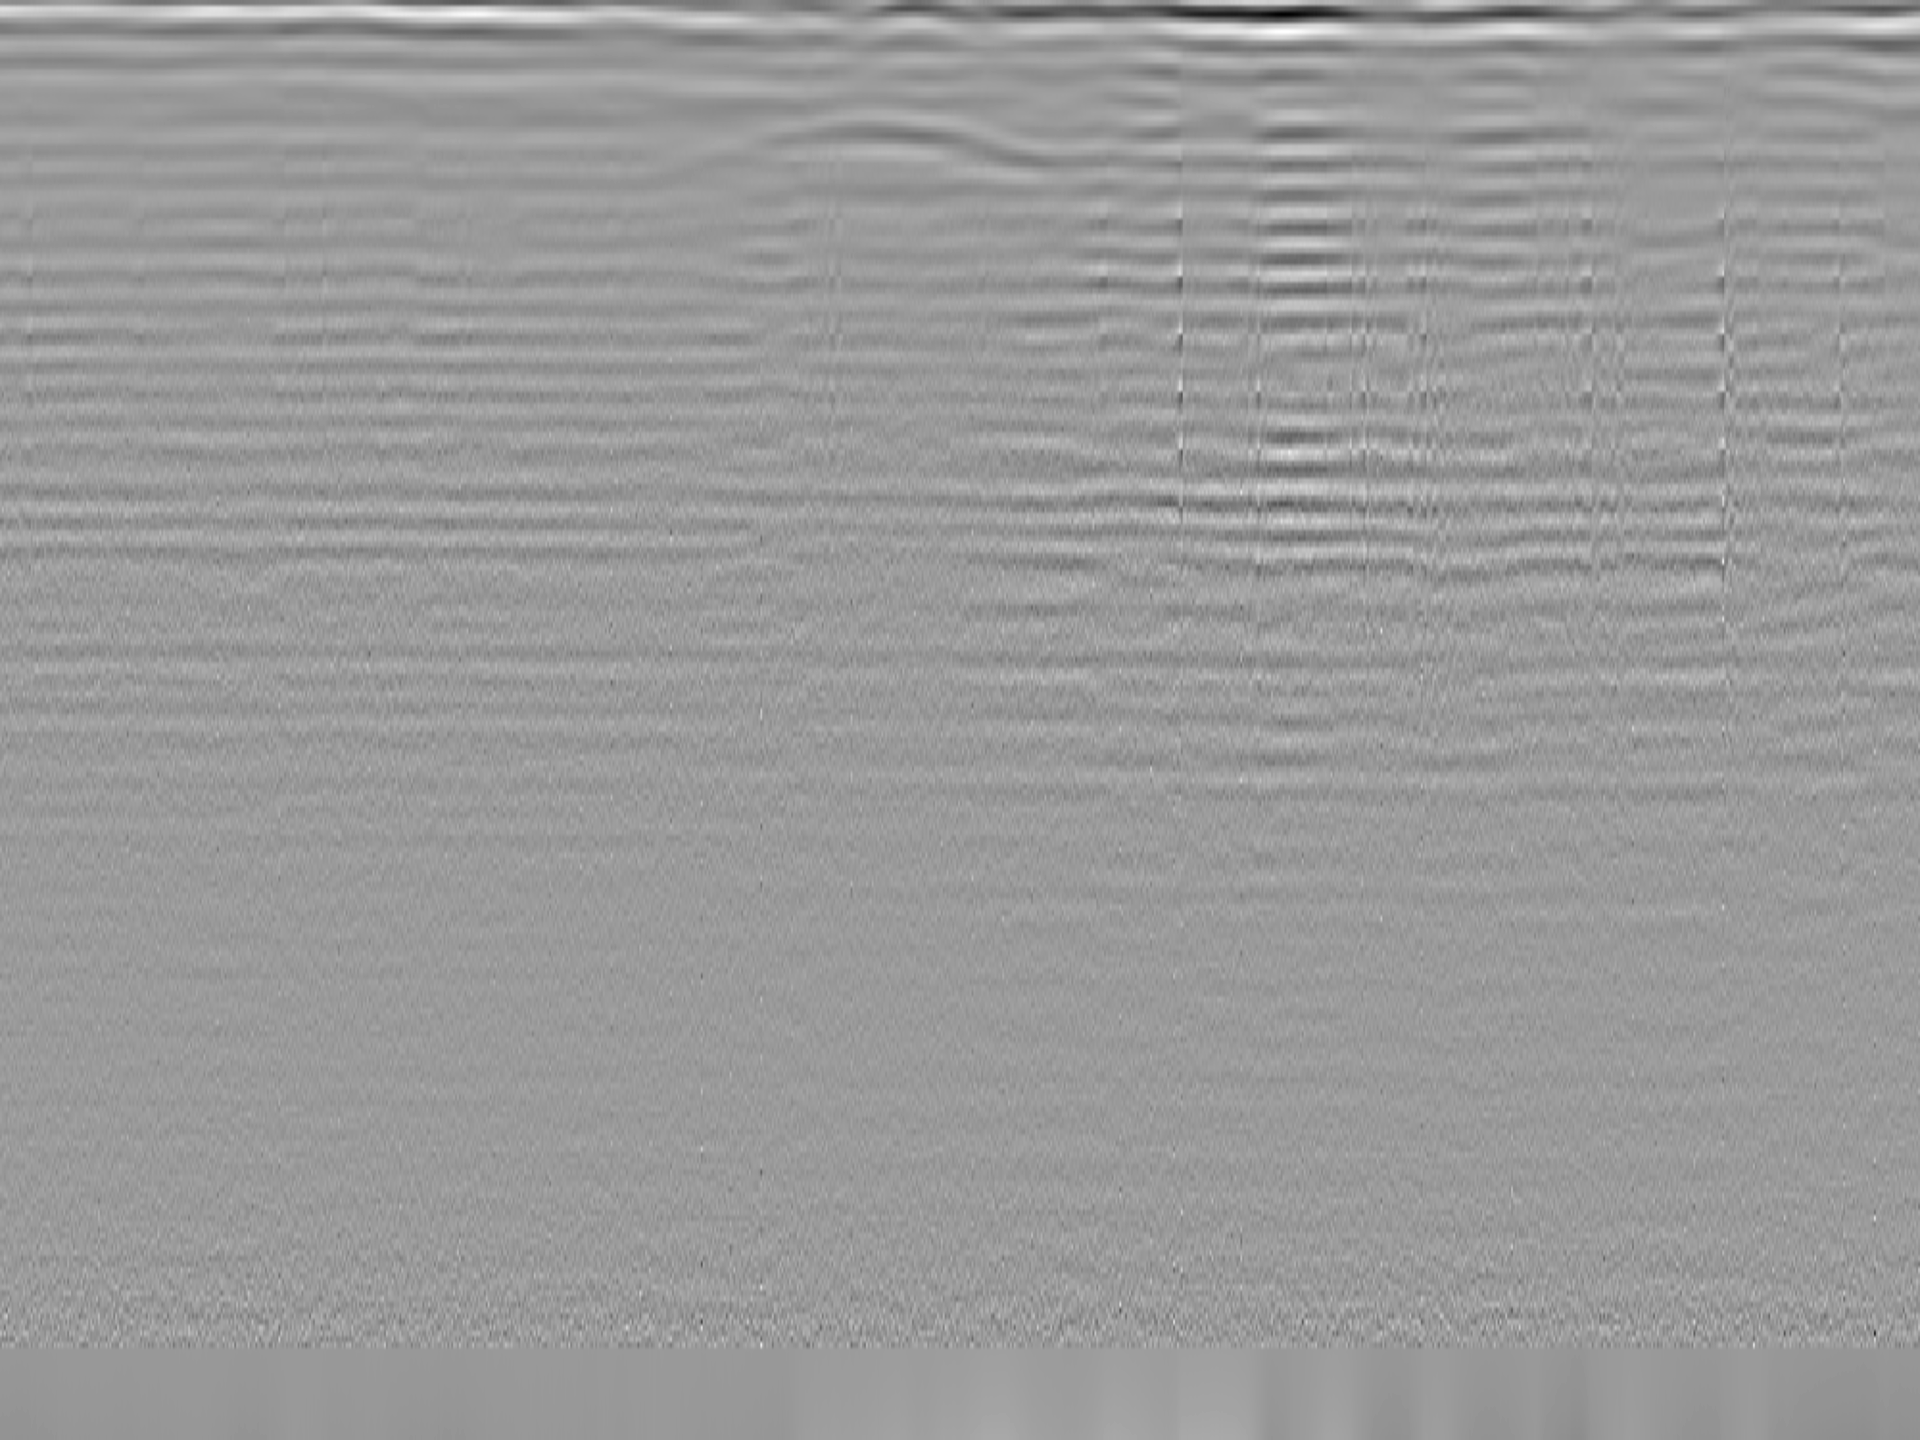Tunnel: (689, 106, 1111, 169)
